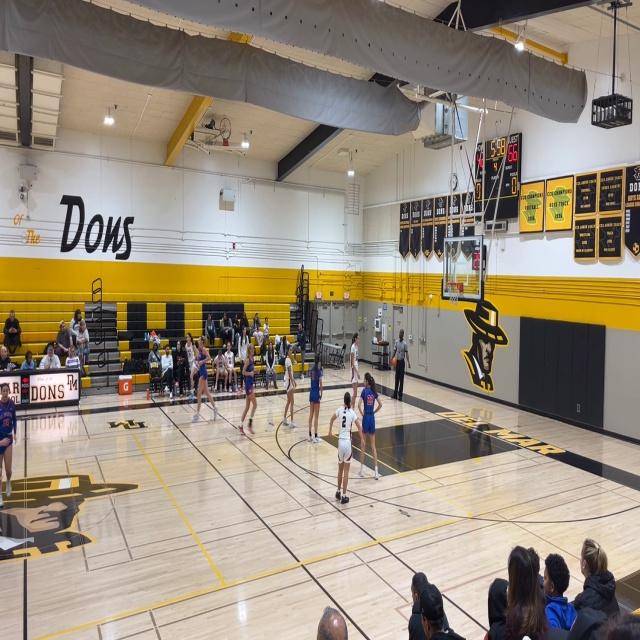Basketball: (391, 357, 397, 365)
